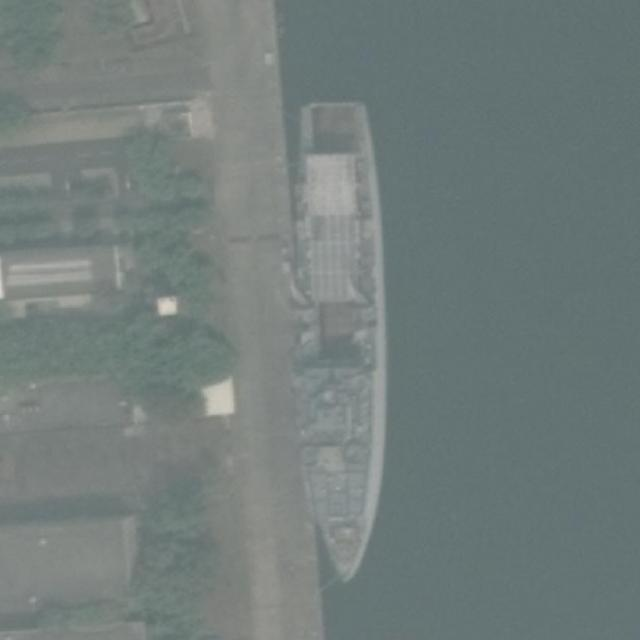Cargo: (283, 98, 393, 583)
